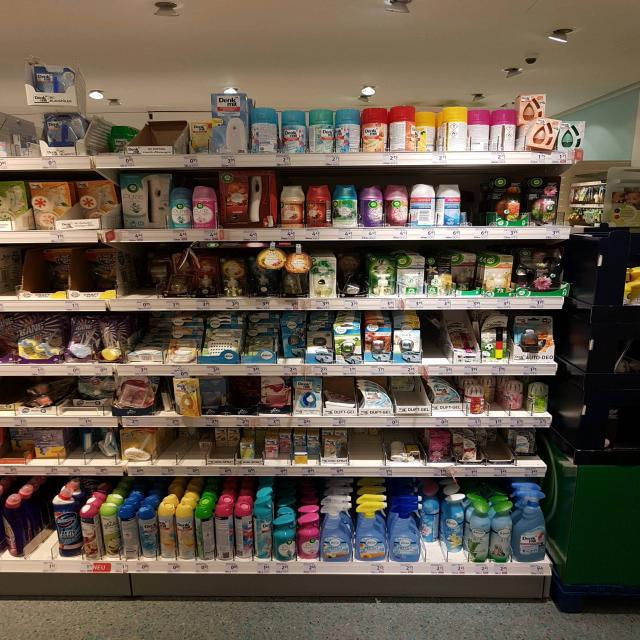empty: (20, 491, 64, 562), (136, 101, 185, 156), (340, 425, 388, 471), (155, 426, 214, 463), (468, 181, 499, 226), (419, 312, 445, 363)
